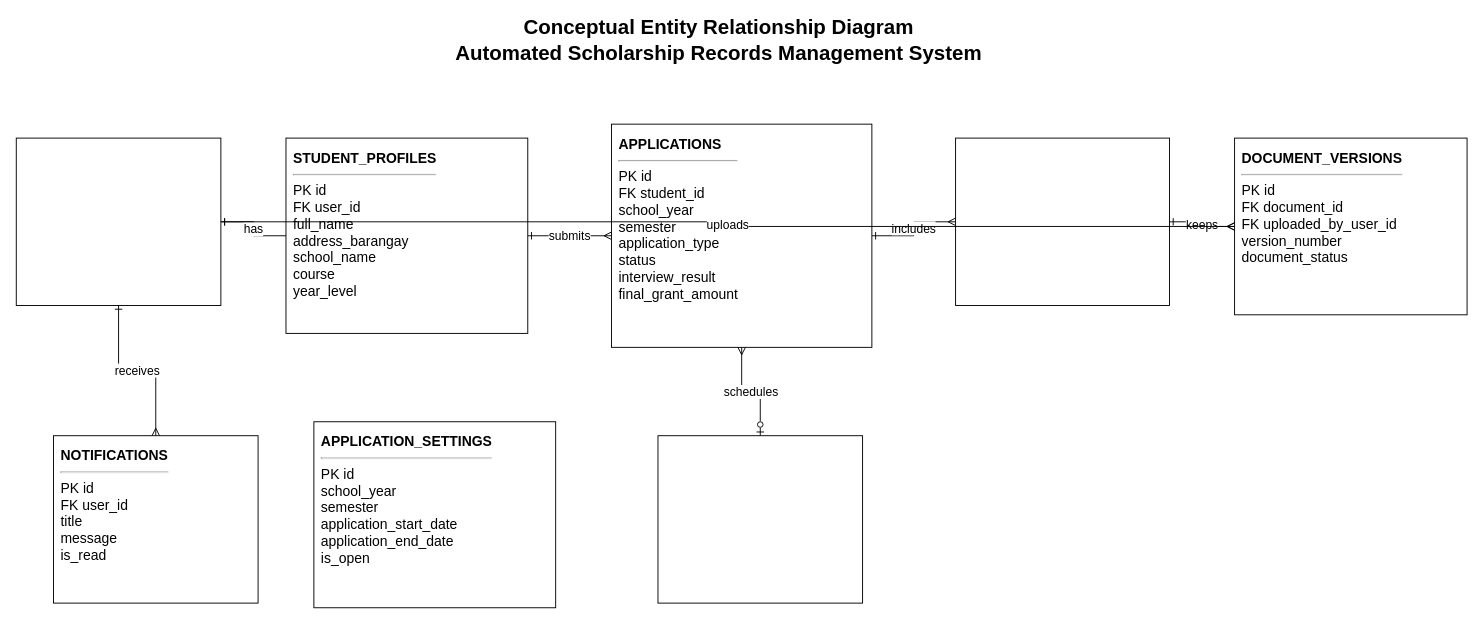
The diagram is 1483 pixels wide and 624 high, and some of its shapes have lost their labels. Each missing label, with the centre of its shape:
BATCHES PK id batch_type batch_name scheduled_date venue: the point at 760,519
DOCUMENTS PK id FK application_id document_type status file_path: the point at 1062,221
USERS PK id role phone_number email is_verified is_active: the point at 118,221
